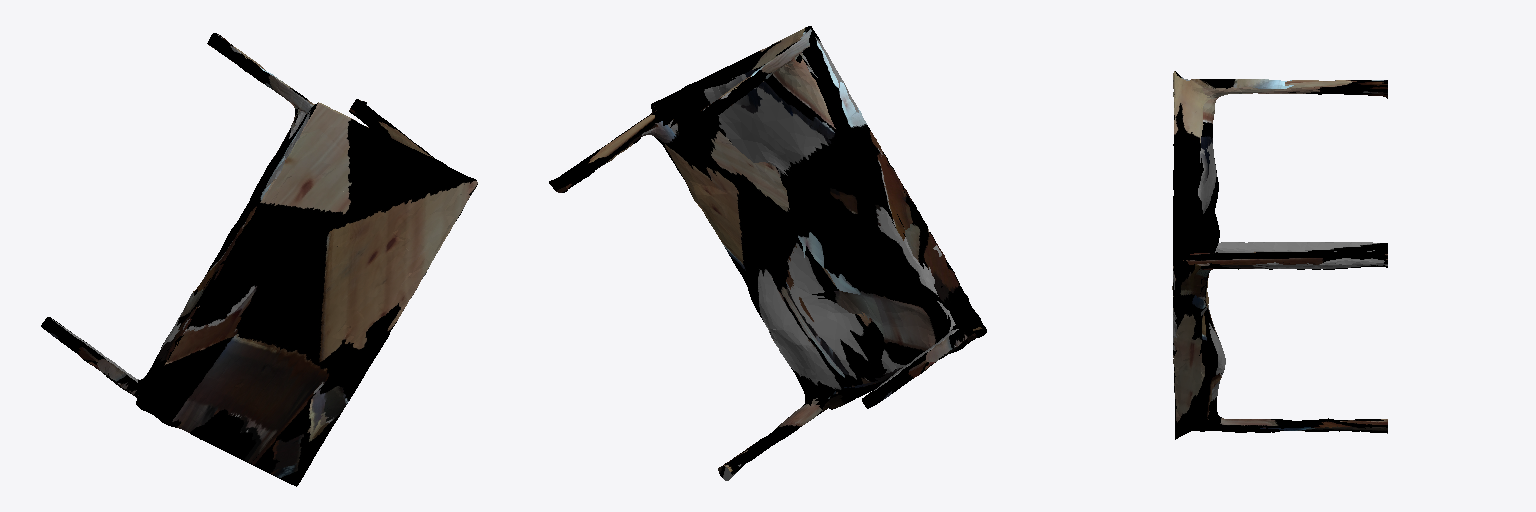
3 renders of one model, left to right at view 1: azimuth 30°, elevation 25°; view 2: azimuth 150°, elevation 25°; view 3: azimuth 270°, elevation 25°, orthographic.
Bounding box in the file's own units: 17.32 × 18.59 × 9.57.
1 materials, 1 textured.